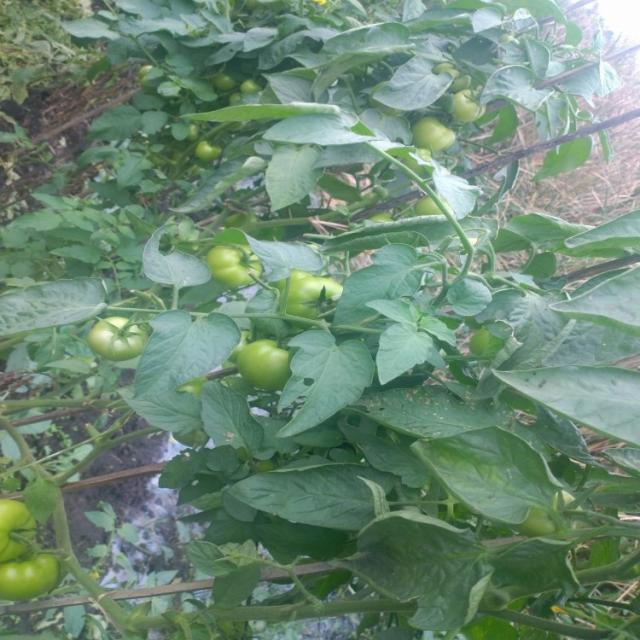tomato: (274, 268, 340, 331), (223, 333, 296, 388), (201, 229, 266, 290), (1, 486, 53, 558), (5, 546, 62, 599), (442, 82, 496, 132), (92, 314, 144, 357), (422, 115, 467, 154), (194, 140, 230, 166), (238, 77, 277, 100), (469, 326, 498, 353), (220, 70, 248, 96)
